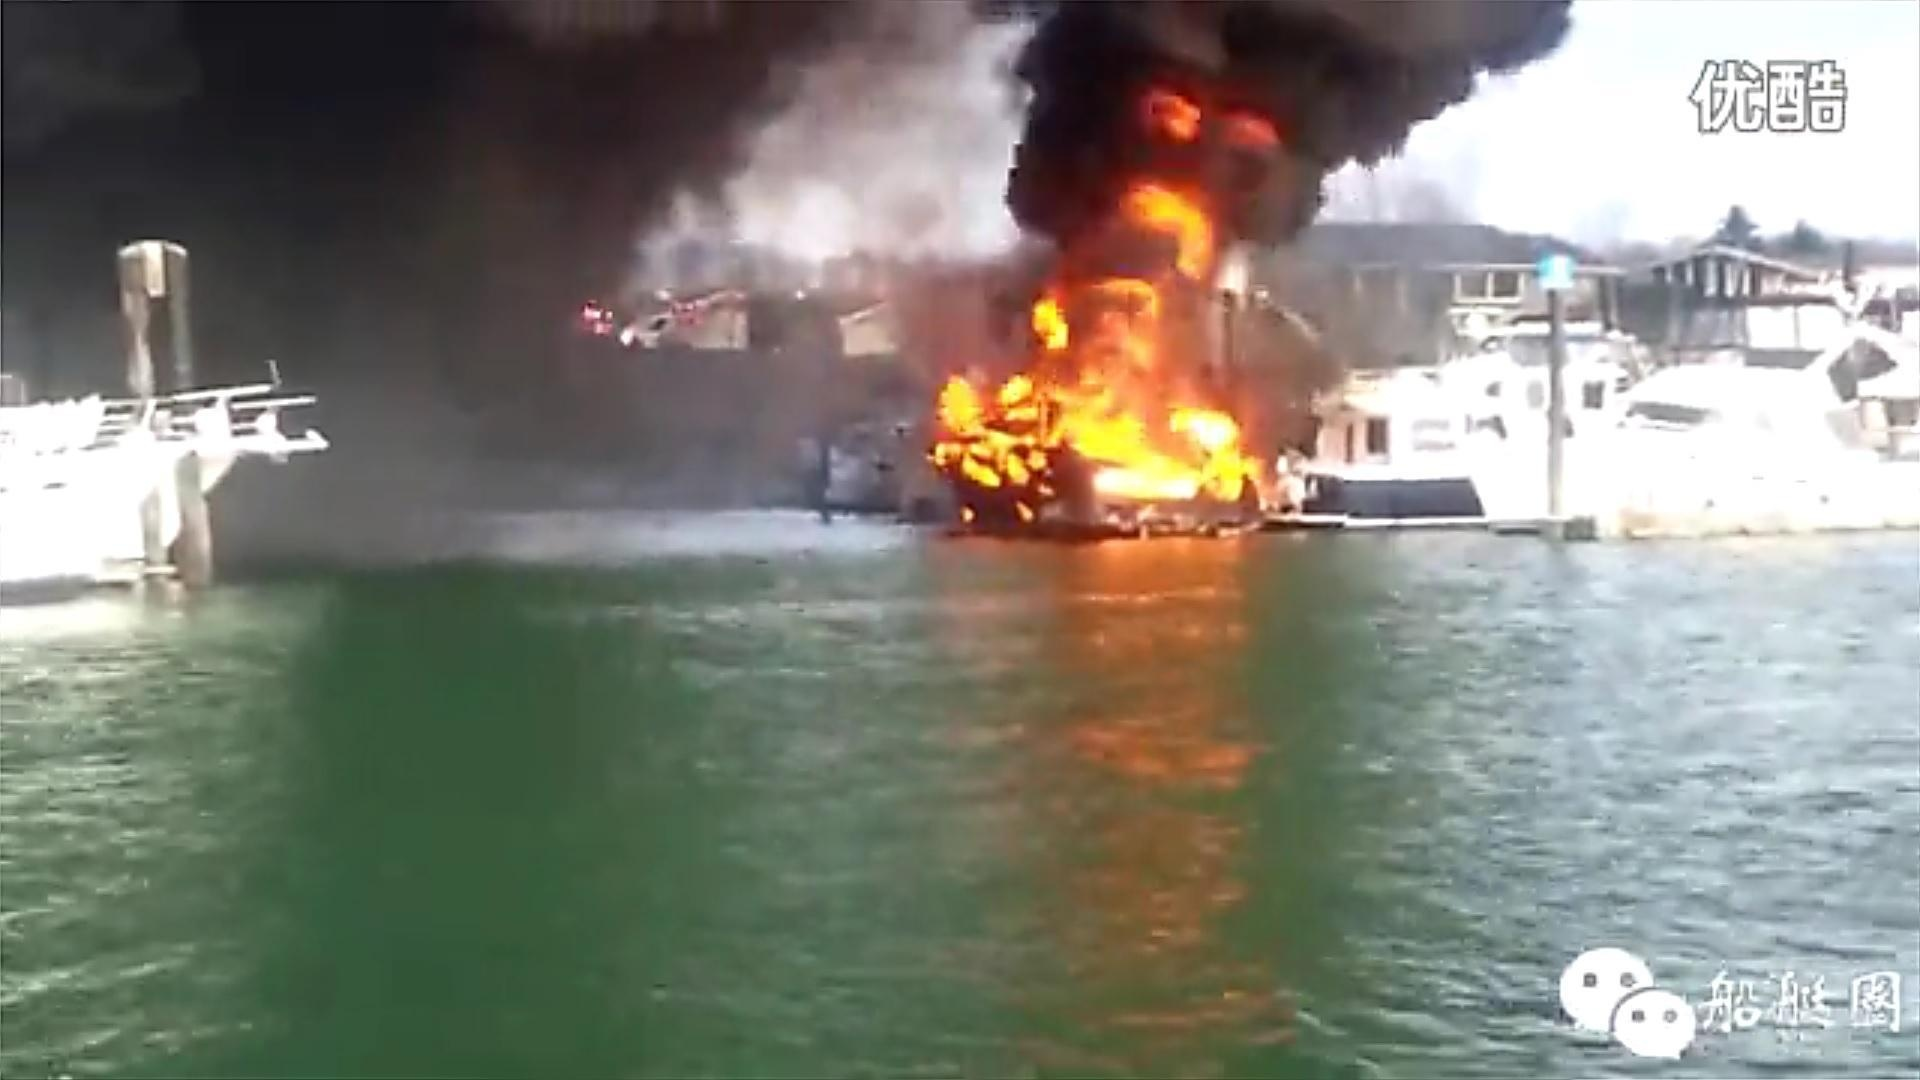fire: (931, 189, 1269, 522)
